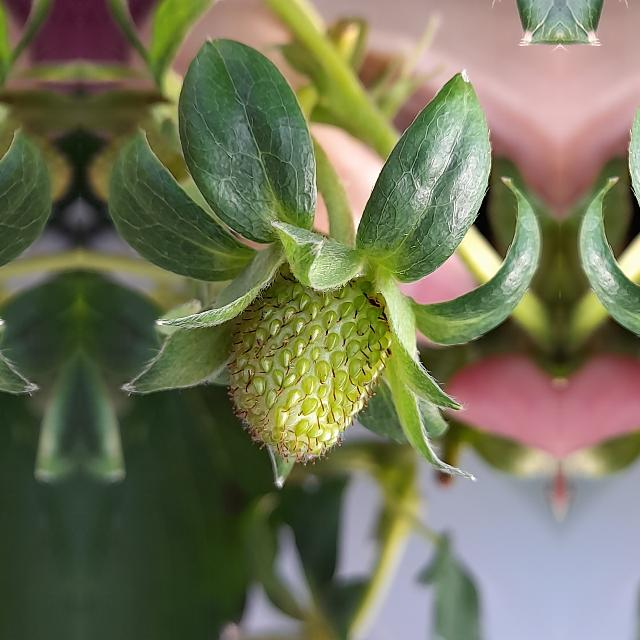Health_25: (227, 262, 396, 470)
